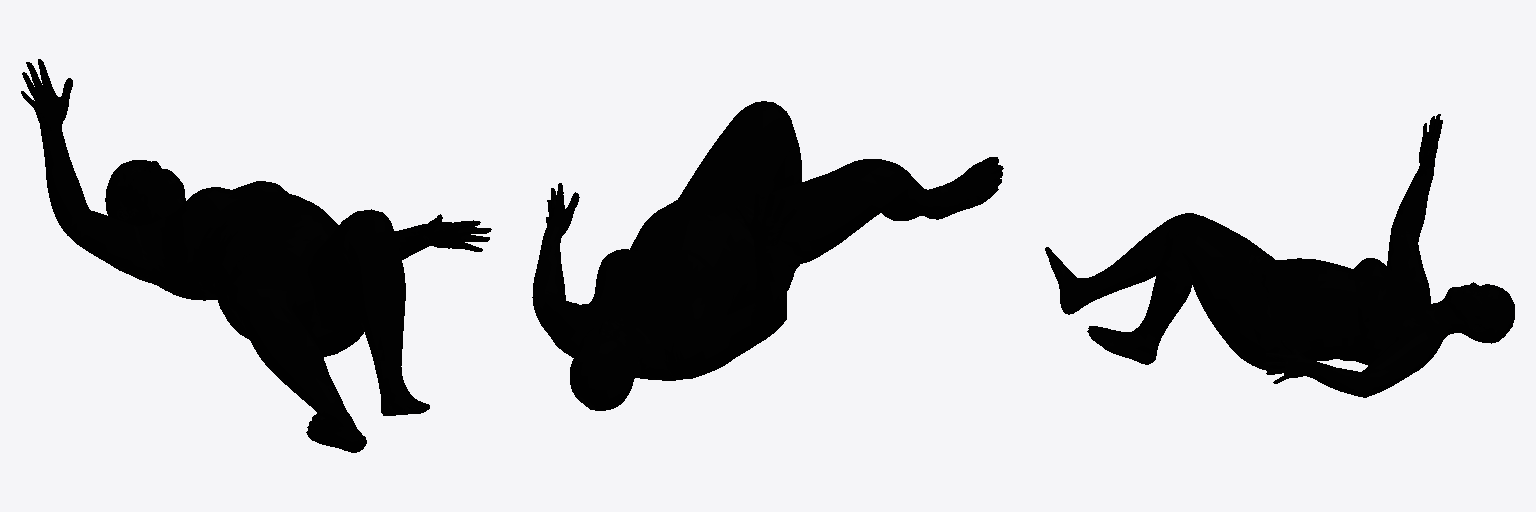
URDF robot description (human_est):
<?xml version="1.0" ?>
<robot name="human_est">

  <material name="off_yellow">
    <color rgba="1 0.95 0.051 1"/>
  </material>

  <material name="black_trans">
    <color rgba="0.01 0.01 0.01 0.5"/>
  </material>

  <link name="human">
    <inertial>
      <mass value="0"/>
      <origin rpy="0 0 0" xyz="0 0 0"/>
      <inertia ixx="0.01" ixy="0.0" ixz="0.0" iyy="0.01" iyz="0.0" izz="0.01"/>
    </inertial>
    <visual>
      <origin rpy="0 0 0" xyz="0 0 0"/>
      <geometry>
        <mesh filename="human_est.obj" scale="1.0 1.0 1.0"/>
      </geometry>
      <material name="black_trans"/>
    </visual>
    <collision>
      <origin rpy="0 0 0" xyz="0 0 0"/>
      <geometry>
        <!--mesh filename="bed_mattress_vhacd.obj" scale="1.1 1.1 1.1"/-->
        <mesh filename="empty.obj" scale="1.0 1.0 1.0"/>
      </geometry>
    </collision>
  </link>
</robot>

--- Facts derived from the render (not from the file) ---
Views: 3 orthographic renders of the robot side by side, from view 1: azimuth 30°, elevation 25°; view 2: azimuth 150°, elevation 25°; view 3: azimuth 270°, elevation 25°.
Model human_est with 1 links and 0 joints (none), rooted at human, posed all joints at 0.
Visible links, largest first — view 1: human; view 2: human; view 3: human.
Link boxes in pixels (x1=…): human: x1=21, y1=59, x2=491, y2=452; human: x1=532, y1=101, x2=1003, y2=410; human: x1=1045, y1=114, x2=1514, y2=397.
Bounding box of the posed robot: 1.05 × 1.58 × 0.6999 m (x, y, z).
1 mesh visuals loaded from 1 distinct referenced files (1 OBJ).
